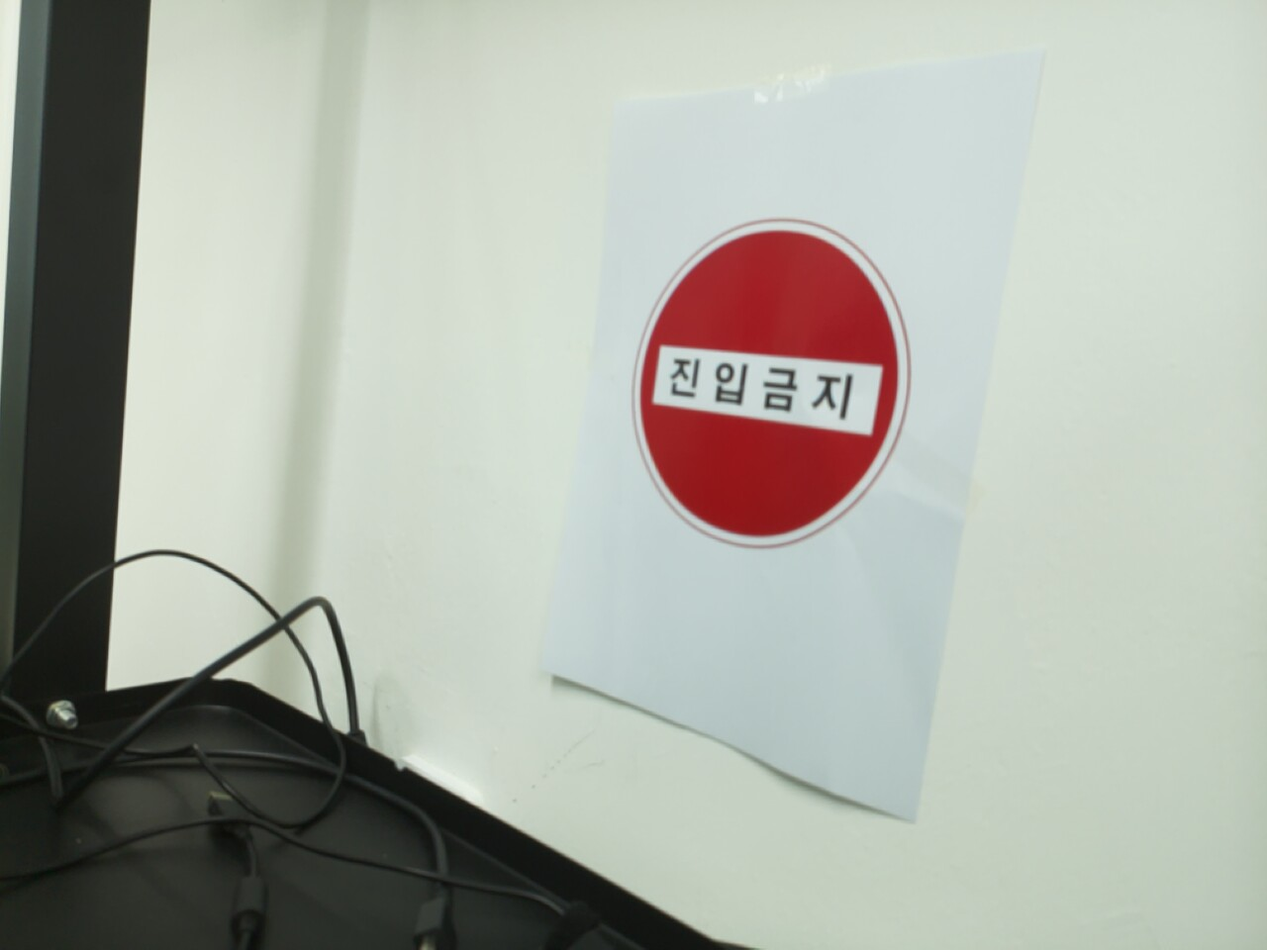do_not_enter: (632, 221, 907, 547)
